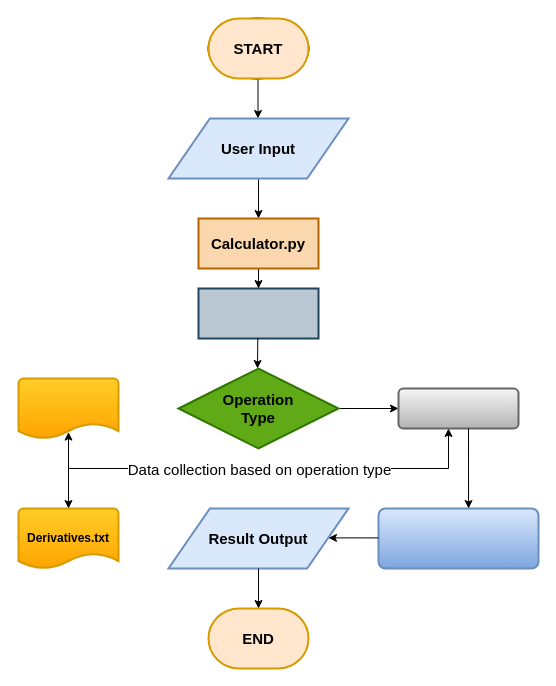
Some shapes in this 556 by 686 pixel diagram are drawn without their labels. The shapes that lost their labels are listed below. From the top down, each one's box as (x1, y1, x2, y2) in pixels, then its label:
(197, 287, 319, 339): Switches.py
(17, 377, 119, 439): Integrals.txt
(397, 387, 519, 429): Utils.py
(377, 507, 539, 569): Calculation Process
